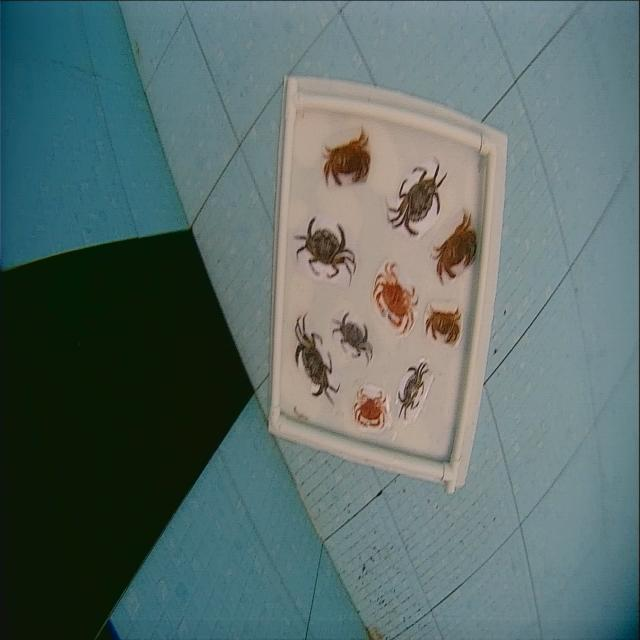GreenCrab: (388, 163, 447, 235), (295, 217, 356, 285), (295, 314, 339, 404), (332, 312, 372, 364), (398, 362, 426, 414)
